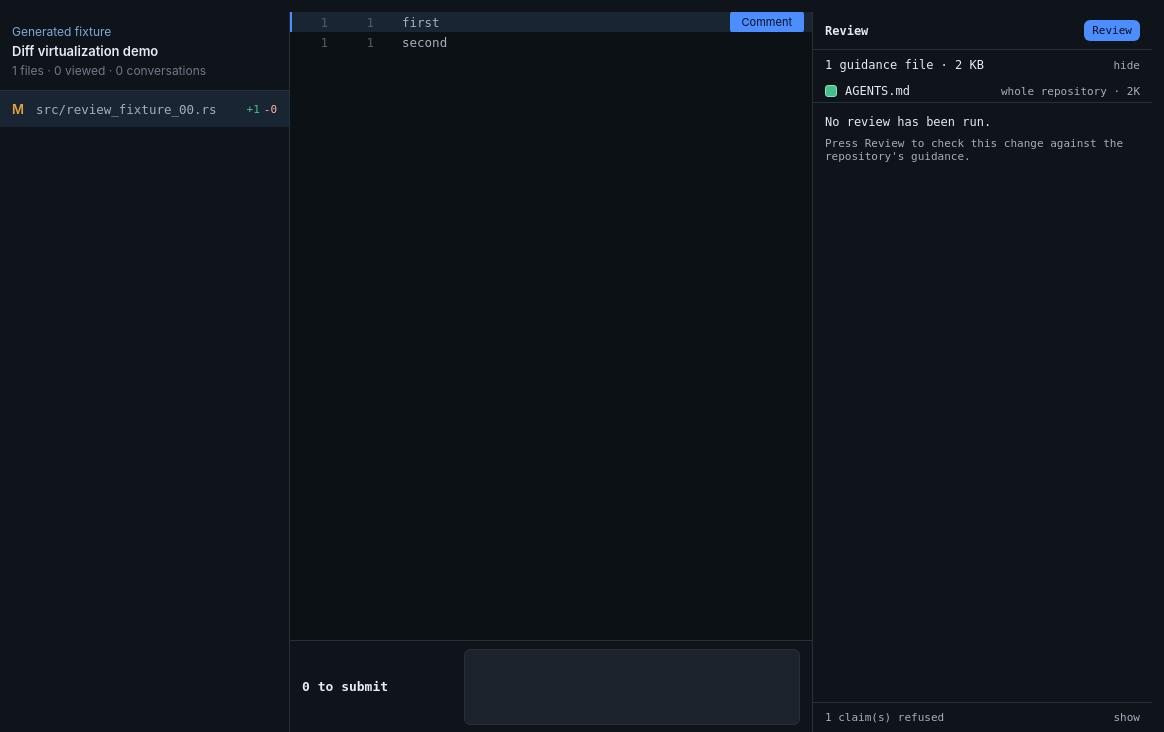
the review panel in a Session › expands the refused claims list and shows each claim's reason
This screenshot has width=1164, height=732.
Expected: the button "Review" is shown, [1084, 20, 1140, 41]
Click the button "1 claim(s) refused show".
click(885, 718)  # box [825, 711, 1140, 724]
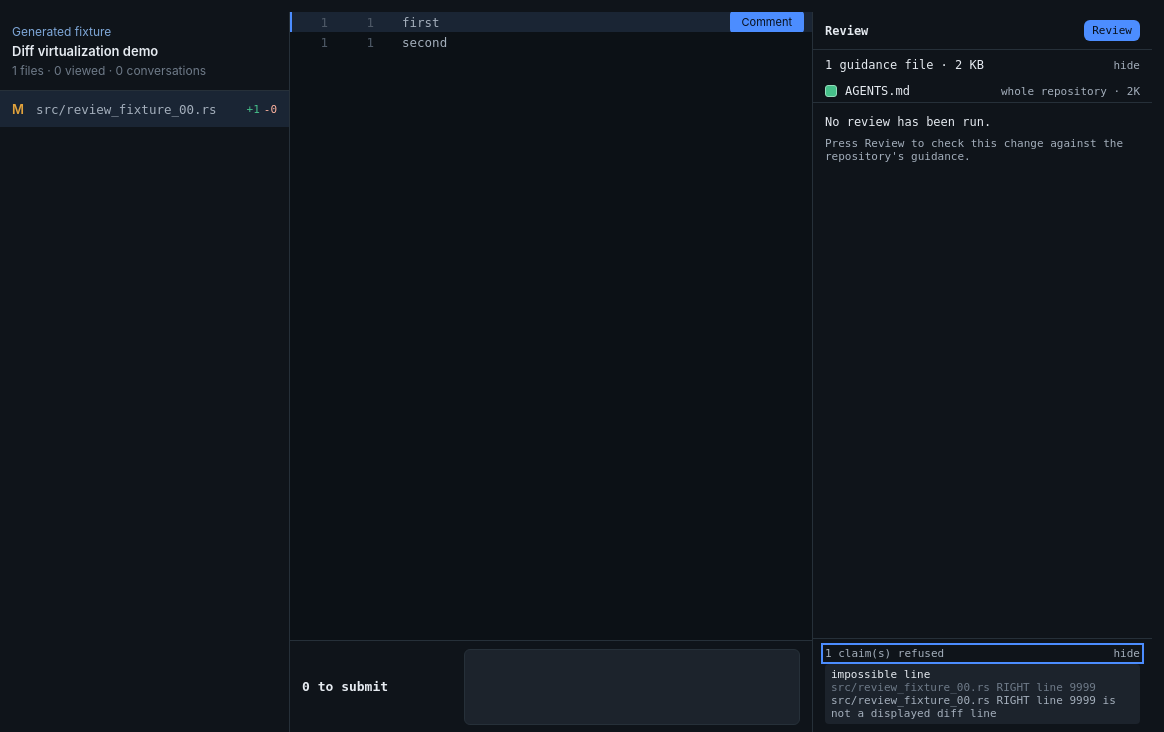
Expected: the text "src/review_fixture_00.rs RIGHT line 9999 is not a displayed diff line" is shown, [831, 694, 1134, 720]
